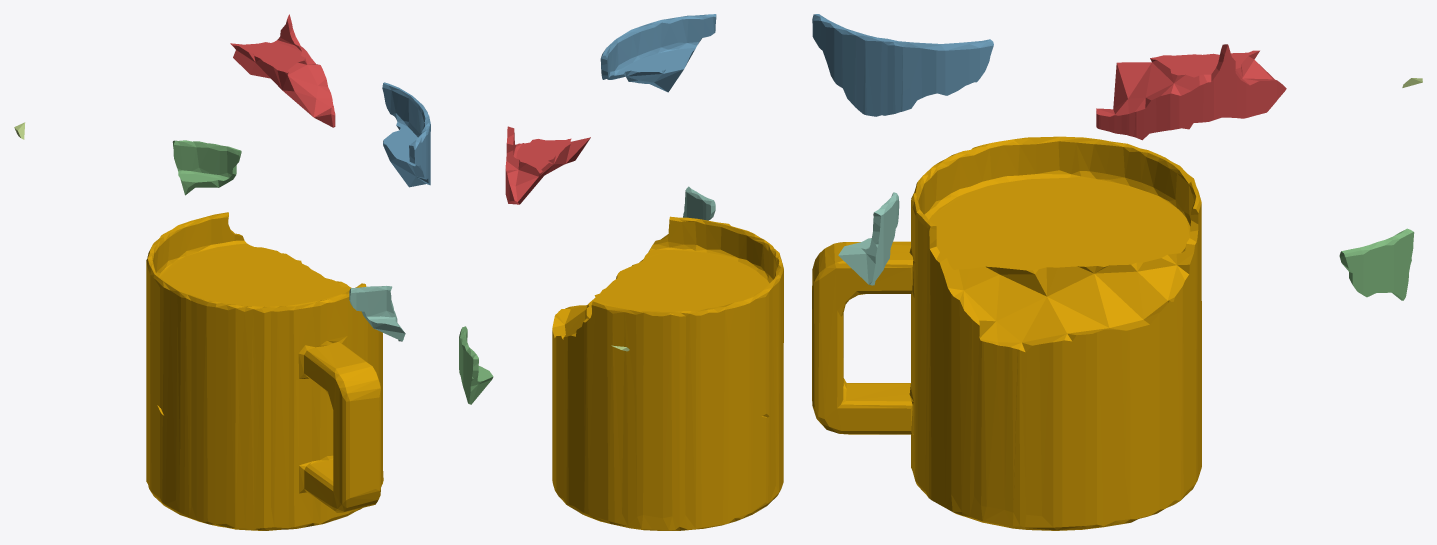
File: fractured_19_6pcs_transformed.glb
3 views of the same model, side by side, from view 1: azimuth 30°, elevation 25°; view 2: azimuth 150°, elevation 25°; view 3: azimuth 270°, elevation 25° (orthographic). The views are drawn at different scales.
Parts seen in each view (by area): view 1: piece_0.obj, piece_1.obj, piece_2.obj, piece_3.obj, piece_4.obj; view 2: piece_0.obj, piece_2.obj, piece_1.obj, piece_3.obj, piece_4.obj; view 3: piece_0.obj, piece_1.obj, piece_2.obj, piece_3.obj, piece_4.obj.
Part boxes in pixels (box(x1,y1,x2,y2)): piece_0.obj: box(146, 212, 383, 530); piece_1.obj: box(230, 14, 335, 127); piece_2.obj: box(382, 82, 430, 187); piece_3.obj: box(172, 140, 241, 195); piece_4.obj: box(349, 286, 405, 341); piece_0.obj: box(552, 216, 783, 530); piece_2.obj: box(600, 14, 716, 92); piece_1.obj: box(505, 126, 590, 204); piece_3.obj: box(459, 326, 493, 404); piece_4.obj: box(683, 186, 715, 220); piece_0.obj: box(812, 136, 1201, 530); piece_1.obj: box(1096, 44, 1286, 140); piece_2.obj: box(812, 14, 993, 116); piece_3.obj: box(1339, 228, 1414, 300); piece_4.obj: box(838, 192, 899, 285).
Bounding box in the file's own units: 0.7449 × 1.38 × 1.57.
